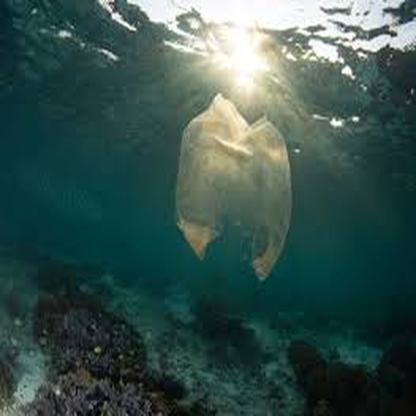plastic bag: (171, 93, 291, 279)
